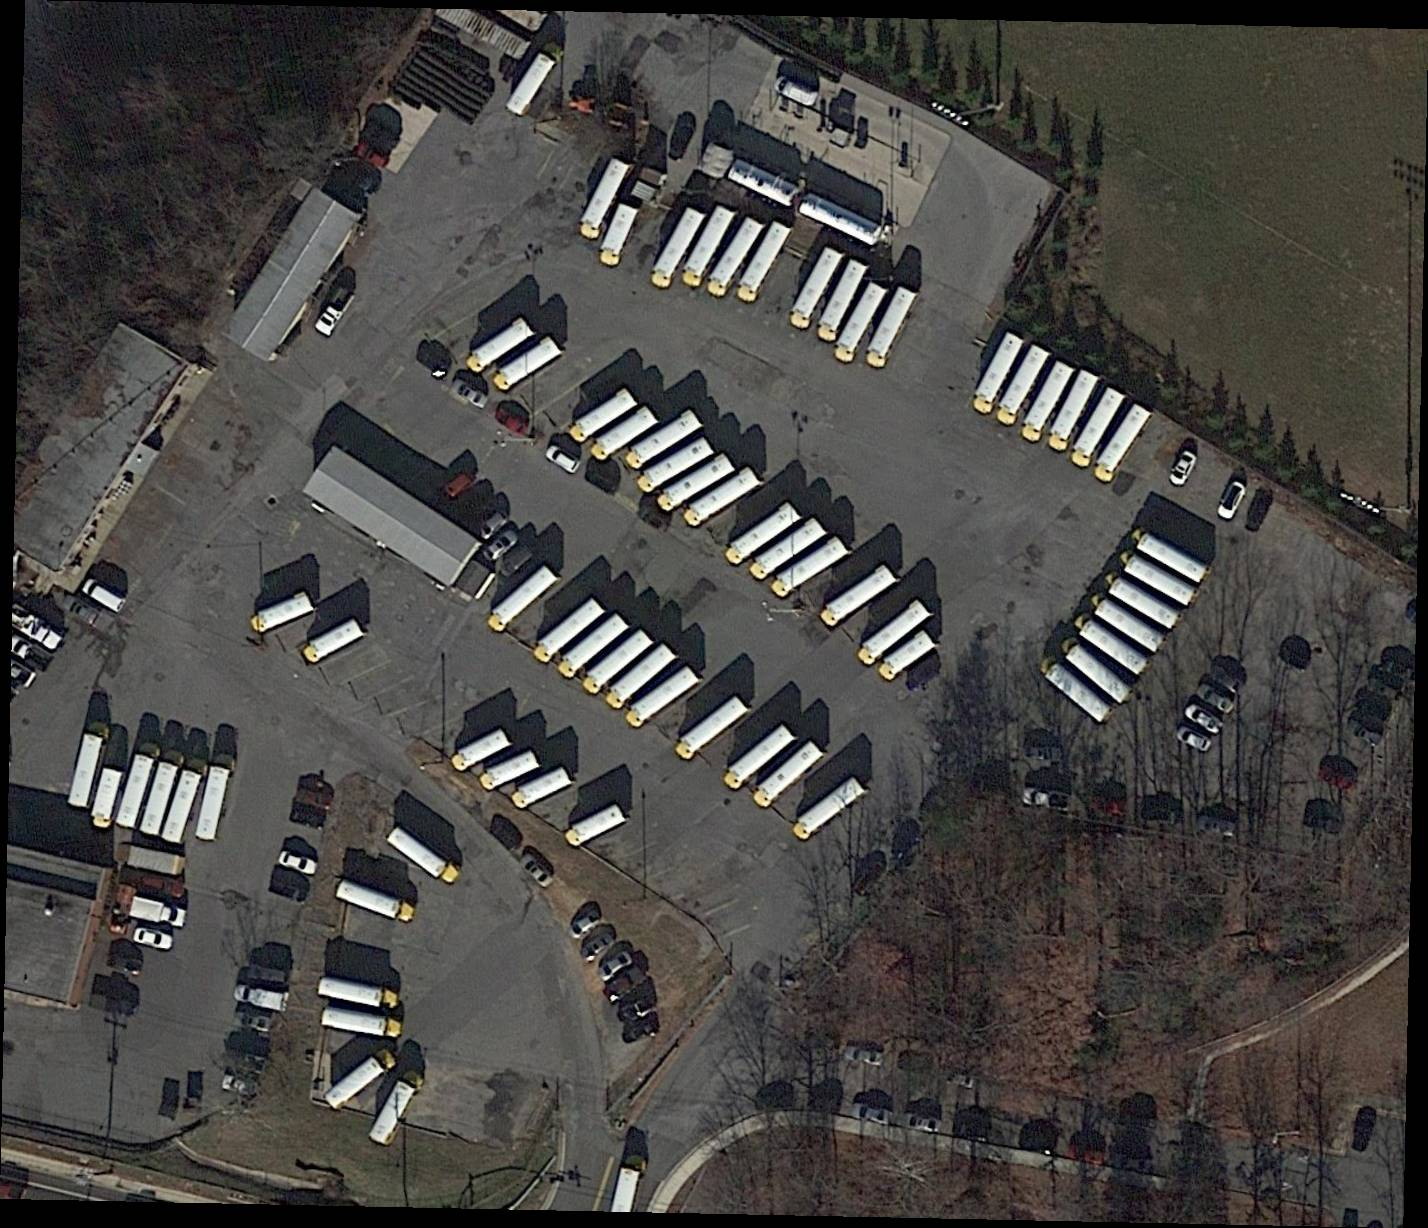large vehicle: (722, 722, 799, 792), (603, 643, 679, 711), (770, 535, 852, 598), (674, 696, 752, 761), (683, 466, 761, 531), (819, 565, 898, 629), (750, 740, 825, 807), (624, 666, 703, 729), (581, 628, 655, 695), (486, 565, 560, 632), (792, 774, 868, 839), (725, 502, 800, 567), (530, 599, 605, 664), (787, 246, 844, 331), (680, 204, 737, 289), (1092, 404, 1154, 482), (705, 217, 763, 300), (1039, 656, 1113, 721), (857, 601, 932, 665), (831, 282, 888, 366), (557, 614, 629, 680), (1068, 387, 1127, 467), (750, 518, 826, 580), (626, 409, 703, 470), (506, 40, 567, 117), (657, 454, 735, 514), (1019, 361, 1076, 443), (650, 206, 707, 288), (995, 344, 1051, 427), (737, 219, 793, 302), (1060, 637, 1132, 701), (971, 333, 1026, 415), (1047, 368, 1101, 451), (322, 1050, 395, 1111), (1102, 572, 1180, 629), (579, 156, 633, 238), (1075, 617, 1150, 676), (865, 286, 918, 369), (367, 1069, 424, 1146), (1091, 594, 1166, 652), (386, 826, 461, 884), (159, 758, 208, 846), (815, 261, 868, 342), (566, 387, 638, 446), (587, 406, 659, 465), (1117, 552, 1195, 606), (465, 316, 534, 377), (493, 335, 563, 395), (1130, 531, 1209, 584), (637, 439, 713, 494), (67, 720, 113, 808), (140, 751, 187, 837), (113, 744, 161, 827), (335, 878, 418, 925), (194, 752, 236, 843), (249, 592, 314, 640), (878, 631, 938, 682), (449, 726, 512, 774), (511, 765, 575, 811), (596, 202, 641, 267), (565, 803, 630, 848), (303, 618, 362, 665), (317, 977, 397, 1010), (322, 1008, 403, 1040), (480, 751, 541, 791), (91, 769, 124, 829)
small vehicle: (312, 285, 356, 340), (126, 895, 189, 930), (663, 109, 702, 164), (599, 965, 648, 1007), (770, 72, 824, 109), (1180, 699, 1228, 740), (1239, 487, 1278, 537), (847, 855, 890, 900), (1214, 476, 1252, 525), (444, 373, 491, 412), (80, 575, 128, 613), (105, 883, 140, 935), (517, 849, 559, 892), (886, 816, 926, 861), (592, 945, 637, 985), (231, 983, 290, 1013), (496, 541, 540, 581), (540, 439, 584, 478), (432, 466, 476, 505), (263, 873, 312, 908), (1193, 680, 1240, 716), (1165, 446, 1202, 491), (1169, 722, 1215, 758), (1020, 784, 1075, 814), (1206, 661, 1248, 700), (482, 817, 523, 856), (479, 525, 521, 563), (412, 342, 453, 380), (1314, 762, 1357, 798), (273, 847, 321, 879), (60, 594, 102, 630), (578, 929, 620, 965), (128, 924, 176, 954), (565, 907, 605, 943), (225, 1030, 272, 1060), (492, 403, 532, 438), (616, 993, 659, 1025), (1343, 716, 1383, 750), (1363, 675, 1405, 707), (475, 506, 511, 543), (239, 965, 289, 991), (1349, 1109, 1377, 1155), (581, 467, 620, 500), (353, 140, 393, 172), (841, 1043, 888, 1070), (1084, 796, 1129, 824), (1302, 809, 1344, 839), (141, 873, 188, 899), (103, 950, 145, 979), (1353, 696, 1392, 727), (1193, 813, 1239, 839), (848, 1101, 895, 1126), (285, 807, 328, 834), (635, 505, 673, 535), (623, 1018, 662, 1047), (218, 1072, 259, 1099), (232, 1010, 273, 1036), (1137, 804, 1179, 829), (1017, 1130, 1058, 1155), (1379, 655, 1415, 683), (293, 788, 334, 812), (952, 1121, 996, 1142), (1067, 1142, 1105, 1166), (900, 1111, 943, 1132), (1111, 1153, 1153, 1174), (896, 1053, 937, 1072), (1023, 744, 1065, 761), (943, 1071, 977, 1091)
